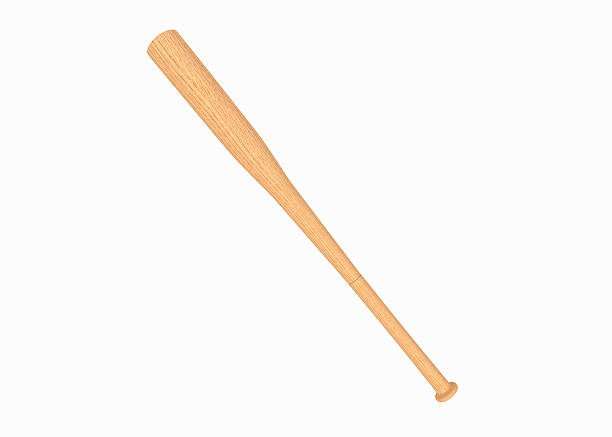bita: (146, 27, 446, 396)
